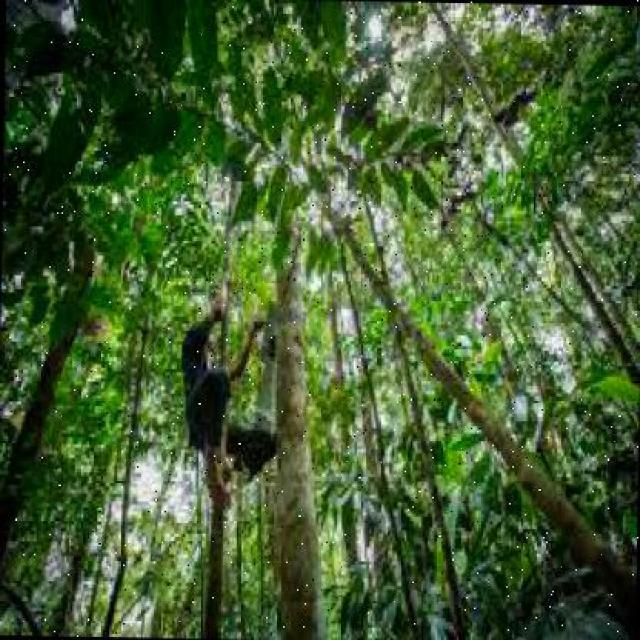poacher: (152, 284, 311, 530)
